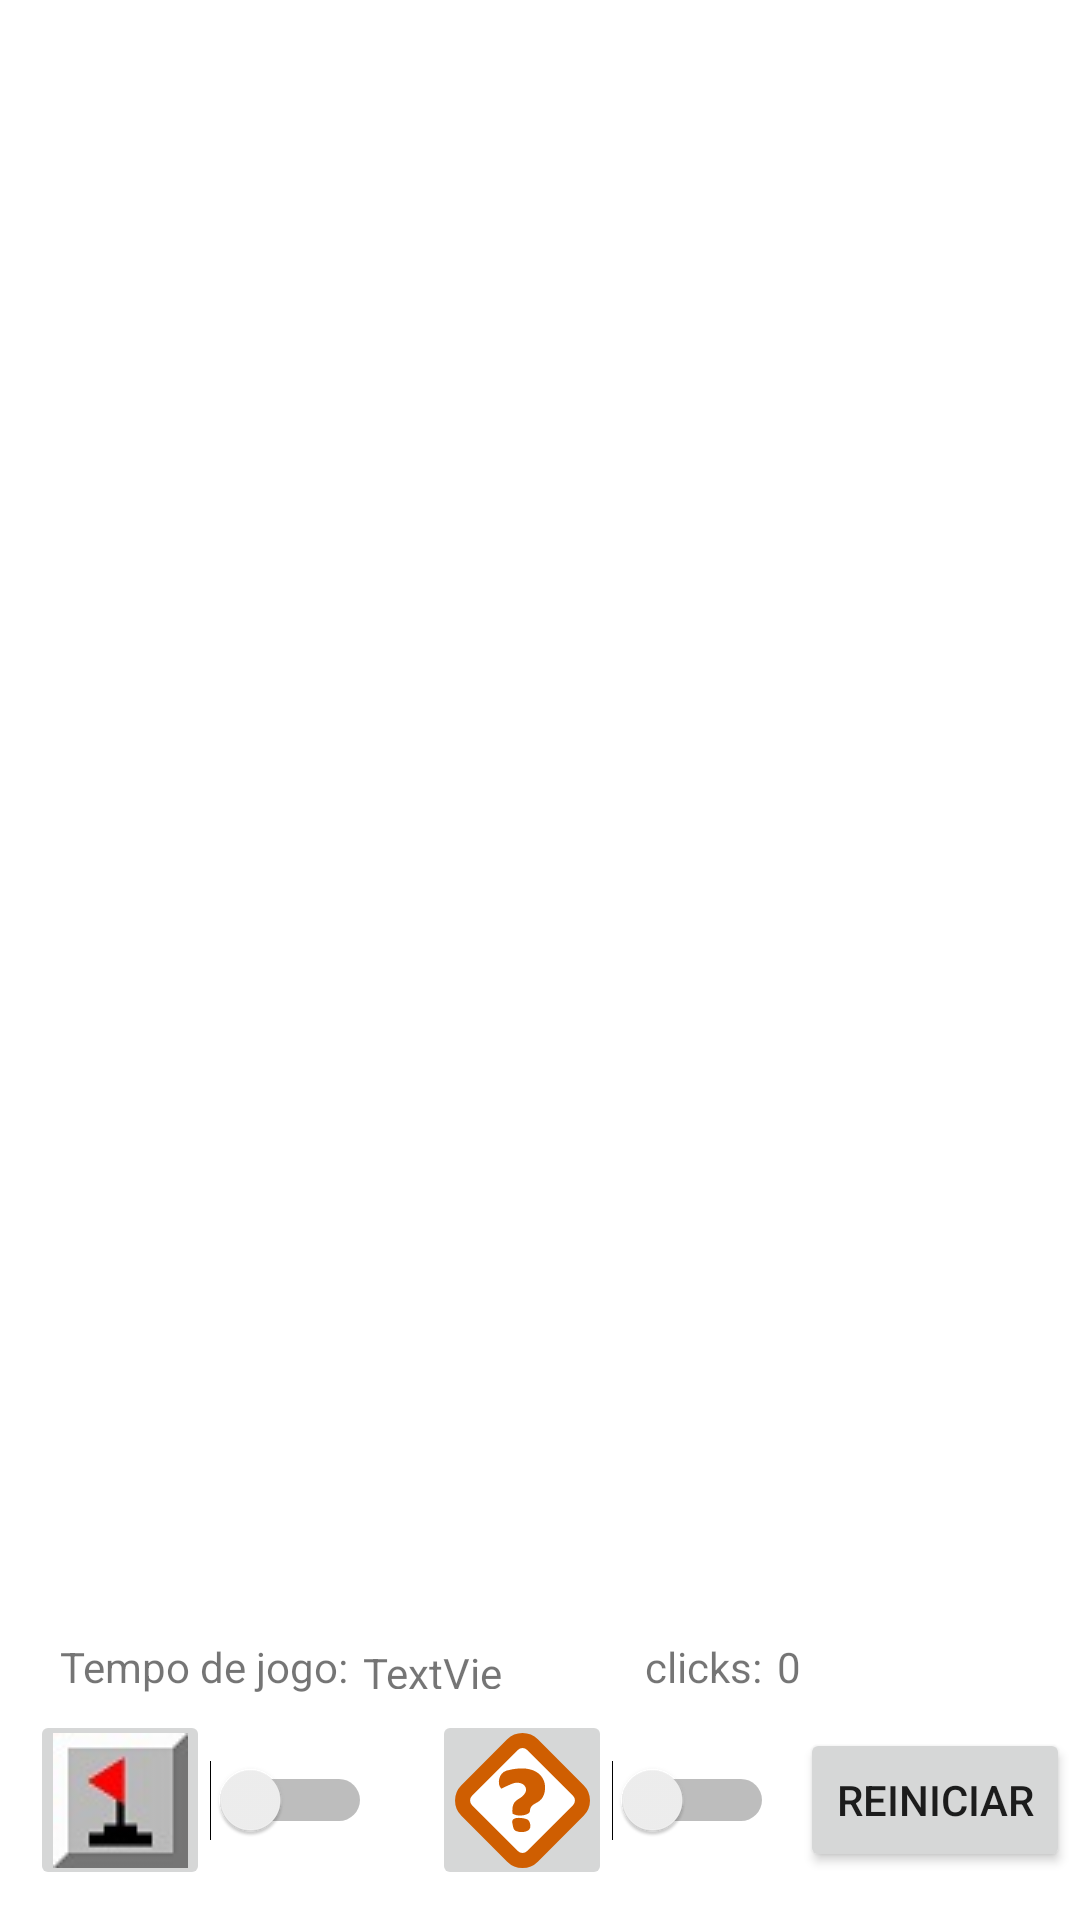

Icons on this 1080px×1920px Android screen, each with the point to tap as (x,y):
bandeirinha: (120,1800)
question: (522,1800)
